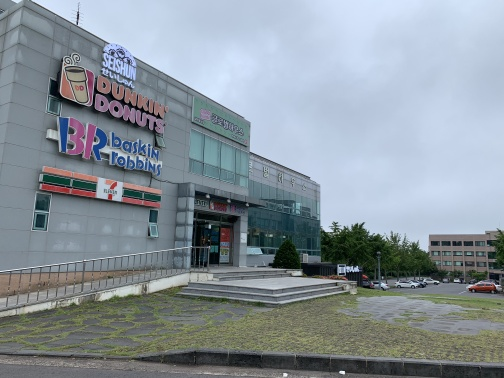Global House: (1, 3, 343, 310)
Joint Experimental Labs: (427, 229, 504, 282)
